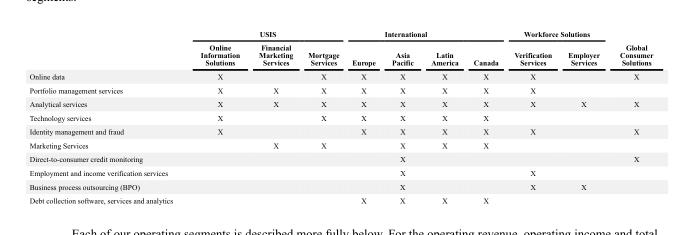table: (28, 29, 652, 204)
table column: (28, 29, 185, 204), (185, 29, 248, 204), (505, 29, 559, 204), (248, 29, 299, 204), (559, 29, 609, 204), (299, 29, 344, 204), (421, 29, 465, 204), (609, 29, 652, 204), (465, 29, 505, 204), (382, 29, 421, 204), (344, 29, 382, 204)
table column header: (28, 29, 652, 69)
table row: (28, 40, 652, 69), (28, 82, 652, 96), (28, 96, 652, 110), (28, 110, 652, 124), (28, 137, 652, 151), (28, 151, 652, 165), (28, 165, 652, 179), (28, 179, 652, 193), (28, 69, 652, 82), (28, 124, 652, 137), (28, 29, 652, 40), (28, 193, 652, 204)
table spanning cell: (185, 29, 344, 40), (609, 29, 652, 69), (465, 29, 505, 69), (344, 29, 465, 40), (505, 29, 609, 40)
